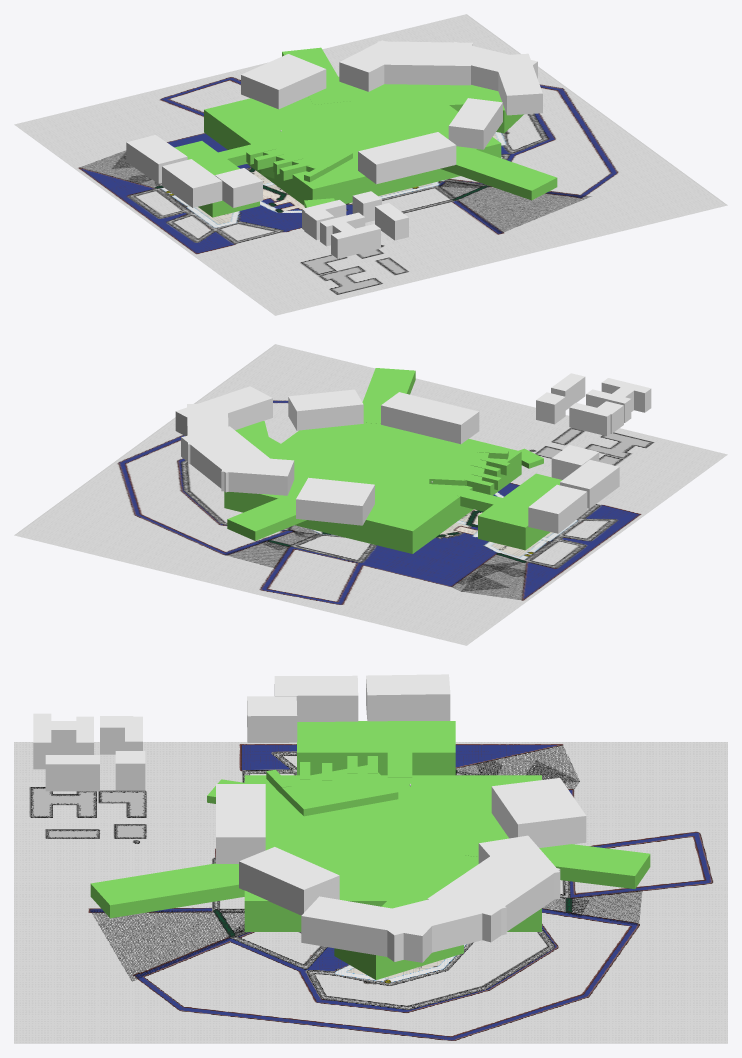
The picture shows the model from 3 angles, top to bottom: view 1: azimuth 30°, elevation 25°; view 2: azimuth 150°, elevation 25°; view 3: azimuth 270°, elevation 25°; orthographic projection. The views are drawn at different scales.
Parts seen in each view (by area): view 1: Plane, Cube, house format 2 (8), house format 2 (4), house format 2 (10), Cube (6), house format 2 (6), house format 2 (7), house format 2 (5), house format 2 (2), house format 2 (9), Cube (3) (+12 smaller); view 2: Plane, Cube, house format 2 (4), Cube (4), house format 2 (10), house format 2 (6), house format 2 (8), house format 2 (5), house format 2 (9), house format 2 (1), Cube (7), Cube (3) (+11 smaller); view 3: Plane, Cube, Cube (4), house format 2 (6), house format 2 (8), Cube (6), house format 2 (10), house format 2 (7), house format 2 (5), house format 2 (1), Cube (7), house format 2 (4) (+13 smaller).
Part boxes in pixels (<box>): Plane: <box>14,14,727,315</box>; Cube: <box>204,77,501,205</box>; house format 2 (8): <box>375,41,472,85</box>; house format 2 (4): <box>358,132,456,184</box>; house format 2 (10): <box>241,54,326,109</box>; Cube (6): <box>440,146,557,200</box>; house format 2 (6): <box>493,53,542,115</box>; house format 2 (7): <box>435,42,537,90</box>; house format 2 (5): <box>448,98,502,149</box>; house format 2 (2): <box>162,159,222,207</box>; house format 2 (9): <box>339,40,411,91</box>; Cube (3): <box>261,134,352,178</box>; Plane: <box>14,344,727,645</box>; Cube: <box>224,422,521,553</box>; house format 2 (4): <box>381,392,479,444</box>; Cube (4): <box>478,473,562,550</box>; house format 2 (10): <box>296,477,374,525</box>; house format 2 (6): <box>175,386,272,435</box>; house format 2 (8): <box>181,426,273,492</box>; house format 2 (5): <box>288,389,363,430</box>; house format 2 (9): <box>221,455,294,495</box>; house format 2 (1): <box>528,484,587,533</box>; Cube (7): <box>227,489,306,540</box>; Cube (3): <box>429,447,488,485</box>; Plane: <box>14,742,727,1043</box>; Cube: <box>244,775,541,931</box>; Cube (4): <box>297,721,455,775</box>; house format 2 (6): <box>301,896,440,962</box>; house format 2 (8): <box>427,852,560,942</box>; Cube (6): <box>90,863,244,918</box>; house format 2 (10): <box>491,778,586,847</box>; house format 2 (7): <box>366,887,506,961</box>; house format 2 (5): <box>239,847,339,915</box>; house format 2 (1): <box>366,674,450,721</box>; Cube (7): <box>465,833,650,888</box>; house format 2 (4): <box>216,784,265,863</box>.
Bounding box in the file's own units: 53004 × 6088 × 53004.
